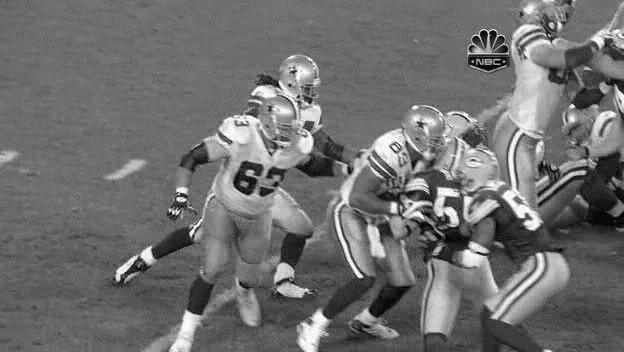person: (287, 55, 321, 104), (286, 55, 320, 104), (288, 55, 322, 104), (287, 54, 321, 103), (287, 56, 321, 105)
target_negative: (187, 229, 562, 347), (112, 239, 406, 275), (66, 276, 94, 323), (493, 97, 496, 266), (454, 100, 457, 245), (610, 295, 611, 306)
